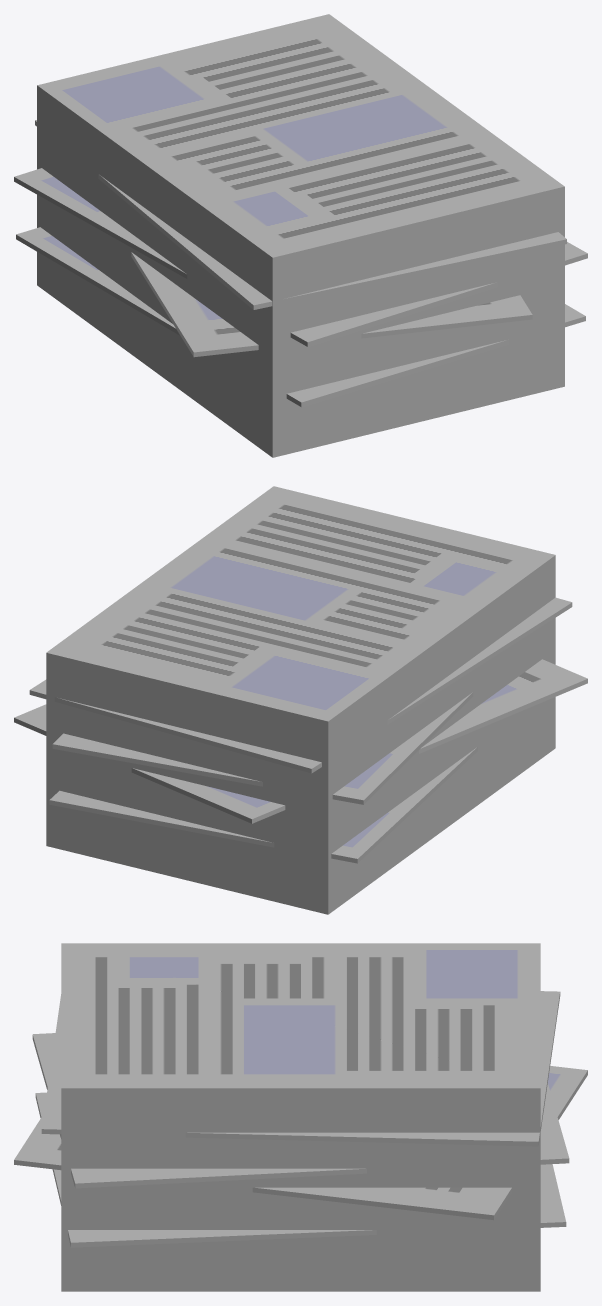
The model's file is Documents.fbx.
The picture shows the model from 3 angles, top to bottom: view 1: azimuth 30°, elevation 25°; view 2: azimuth 150°, elevation 25°; view 3: azimuth 270°, elevation 25°; orthographic projection. The views are drawn at different scales.
Visible parts, largest first — view 1: Plane.006; view 2: Plane.006; view 3: Plane.006.
Boxes of the visible parts, left/top/right/bottom form: Plane.006: left=14, top=14, right=587, bottom=457; Plane.006: left=14, top=486, right=587, bottom=914; Plane.006: left=14, top=943, right=587, bottom=1291.
Bounding box in the file's own units: 53.34 × 25.23 × 64.49.
Materials: 1 (1 with a texture image).
